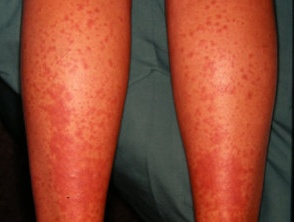SJS-TEN: (158, 0, 283, 222), (18, 0, 142, 222)
